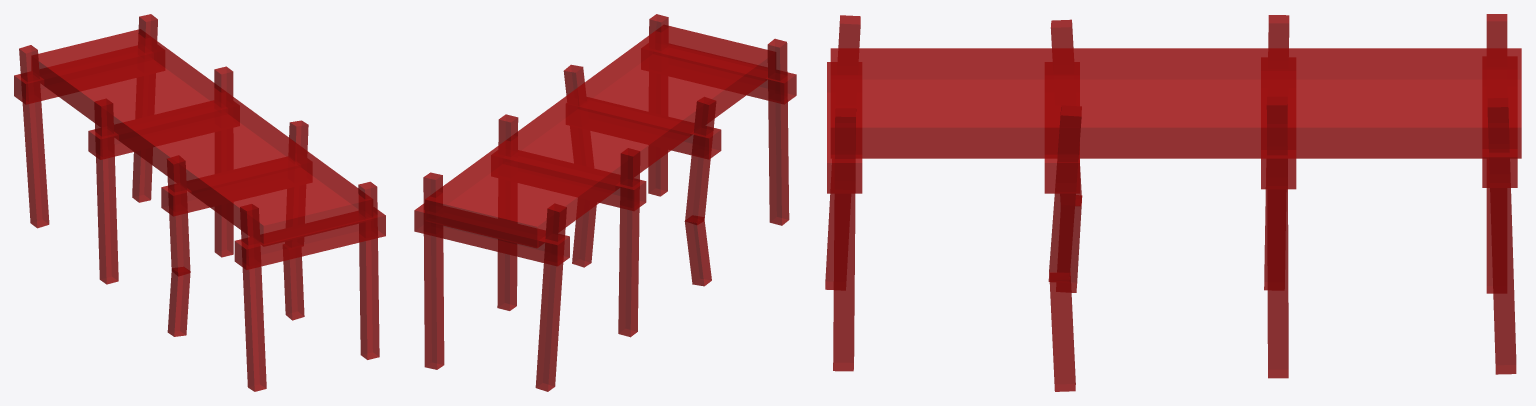
File: SM_Prop_Jetty_03_Collision.fbx
3 views of the same model, side by side, from view 1: azimuth 30°, elevation 25°; view 2: azimuth 150°, elevation 25°; view 3: azimuth 270°, elevation 25° (orthographic). The views are drawn at different scales.
Parts seen in each view (by area): view 1: SM_Prop_Jetty_03_Collision; view 2: SM_Prop_Jetty_03_Collision; view 3: SM_Prop_Jetty_03_Collision.
Boxes of the visible parts, x1=… form: SM_Prop_Jetty_03_Collision: x1=14, y1=14, x2=385, y2=391; SM_Prop_Jetty_03_Collision: x1=414, y1=14, x2=796, y2=391; SM_Prop_Jetty_03_Collision: x1=825, y1=14, x2=1521, y2=391.
Bounding box in the file's own units: 209 × 275 × 601.
